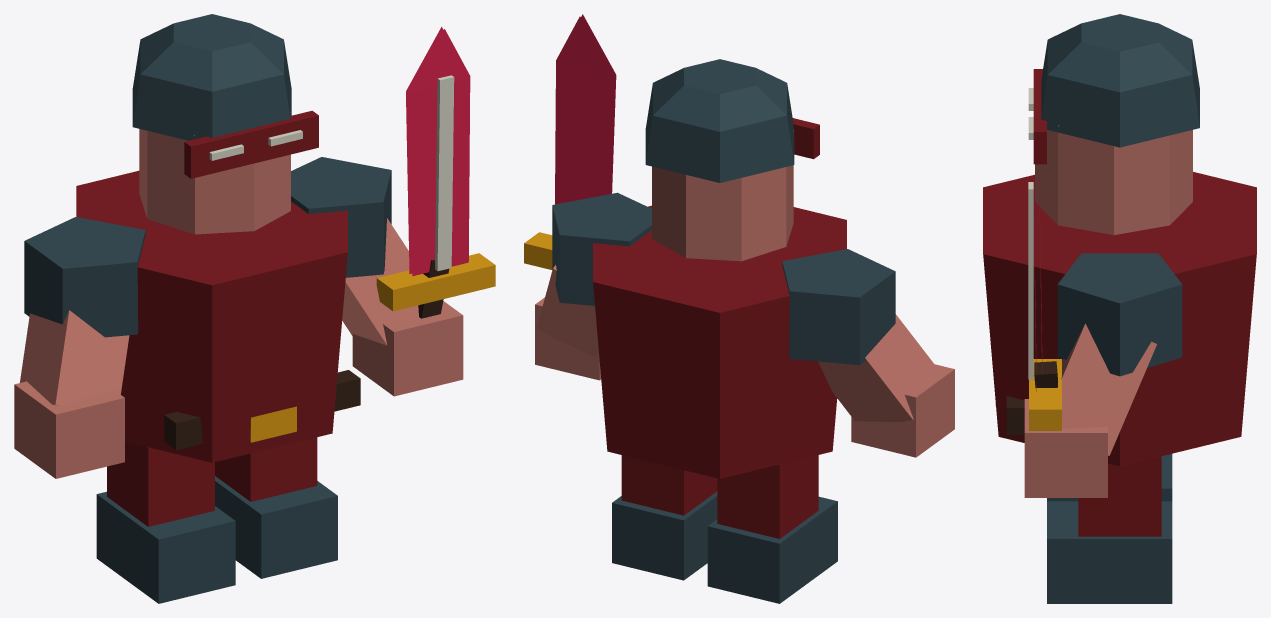
Rendered from giant.fbx.
3 views of the same model, side by side, from view 1: azimuth 30°, elevation 25°; view 2: azimuth 150°, elevation 25°; view 3: azimuth 270°, elevation 25° (orthographic). The views are drawn at different scales.
Parts seen in each view (by area): view 1: giant; view 2: giant; view 3: giant.
Part boxes in pixels (x1,y1,x2,y2): giant: (14,14,495,603); giant: (524,14,954,603); giant: (983,14,1256,603).
Size of the model in its own units: 1.73 by 1.95 by 0.918.
